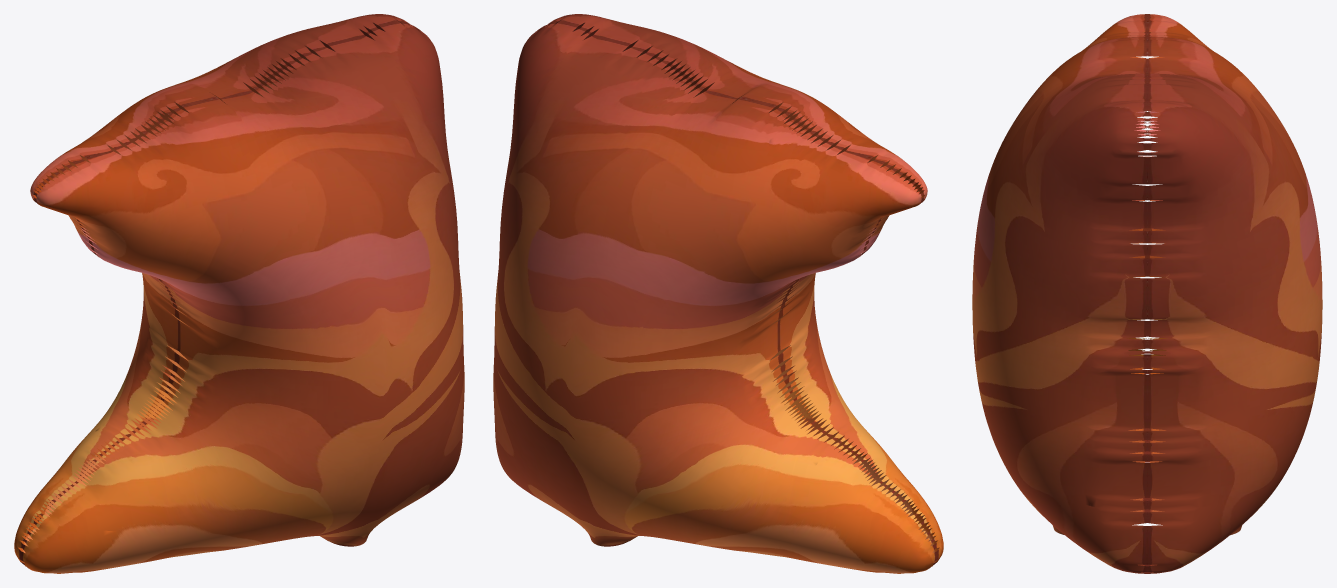
Rendered from east_cliff.glb.
3 renders of one model, left to right at view 1: azimuth 30°, elevation 25°; view 2: azimuth 150°, elevation 25°; view 3: azimuth 270°, elevation 25°, orthographic.
Visible parts, largest first — view 1: east_cliff; view 2: east_cliff; view 3: east_cliff.
Boxes of the visible parts, bbox=[...] form: east_cliff: bbox=[14, 14, 464, 573]; east_cliff: bbox=[493, 14, 943, 573]; east_cliff: bbox=[972, 14, 1322, 573].
Size of the model in its own units: 0.9883 by 1.05 by 0.7225.
1 material, 1 textured.
